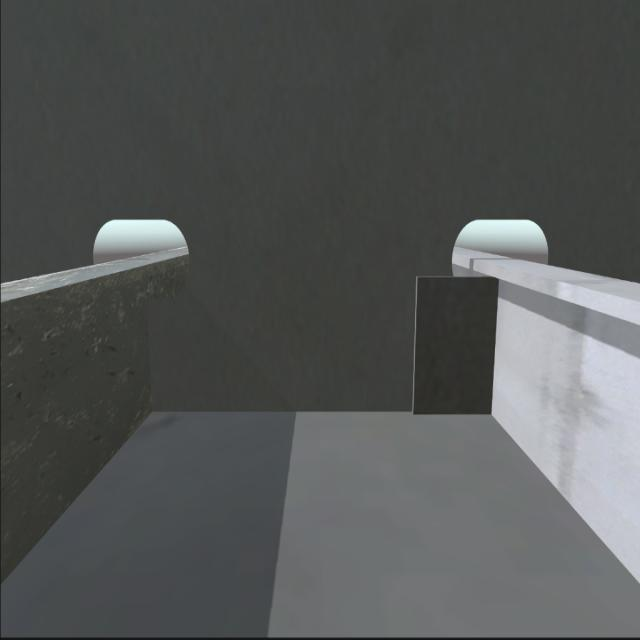fillet_yong_jeop_jang: (144, 403, 496, 420)
longi_yong_jeop_jang: (135, 296, 158, 411), (487, 280, 502, 416)
plate_CP01: (416, 264, 504, 411)
